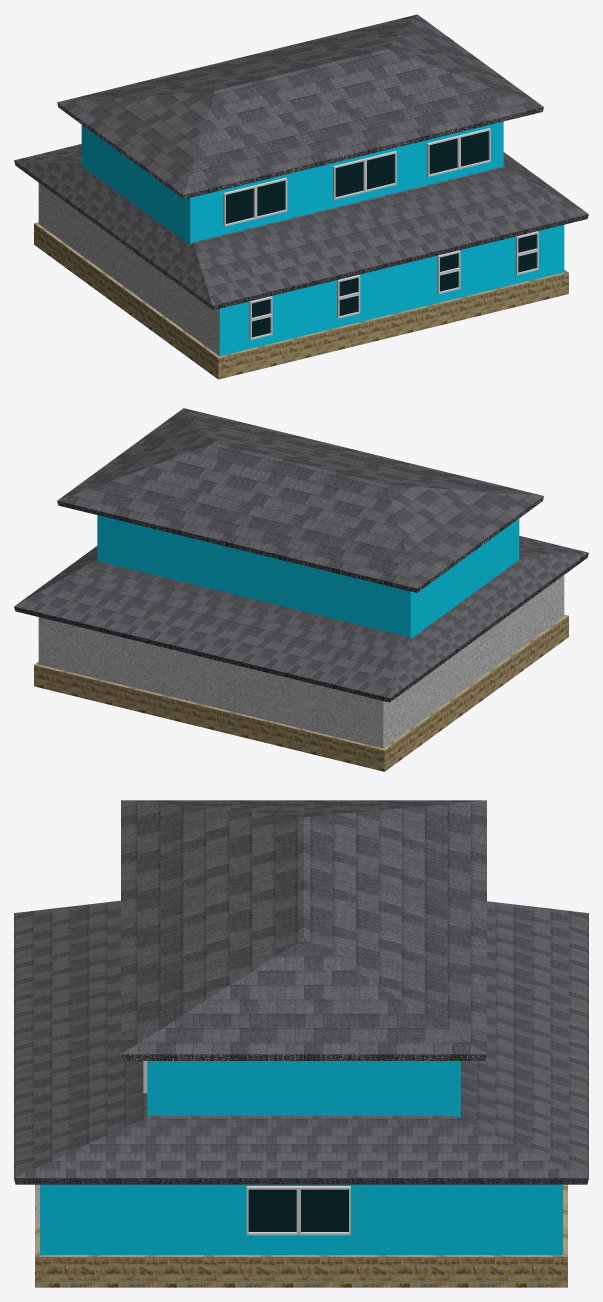
File: house1.fbx
3 views of the same model, one above another, from view 1: azimuth 30°, elevation 25°; view 2: azimuth 150°, elevation 25°; view 3: azimuth 270°, elevation 25° (orthographic). The views are drawn at different scales.
Parts seen in each view (by area): view 1: tileSidewalkCorner.006, tileSidewalkCorner.005, Cube.010, Cube.013, Cube.011, Cube.008, Cube.009, Cube.012; view 2: tileSidewalkCorner.006, tileSidewalkCorner.005; view 3: tileSidewalkCorner.006, tileSidewalkCorner.005, Cube.031, Cube.030.
Boxes of the visible parts, x1,y1,x2,y2 form: tileSidewalkCorner.006: (14,14,588,356); tileSidewalkCorner.005: (34,222,568,379); Cube.010: (429,131,488,174); Cube.013: (335,154,394,196); Cube.011: (226,180,284,223); Cube.008: (223,177,287,226); Cube.009: (427,128,490,176); Cube.012: (333,151,396,199); tileSidewalkCorner.006: (14,408,588,748); tileSidewalkCorner.005: (34,614,568,771); tileSidewalkCorner.006: (14,800,588,1254); tileSidewalkCorner.005: (35,1184,567,1287); Cube.031: (248,1189,348,1231); Cube.030: (246,1186,350,1235).
Size of the model in its own units: 2400 by 1210 by 2200.
